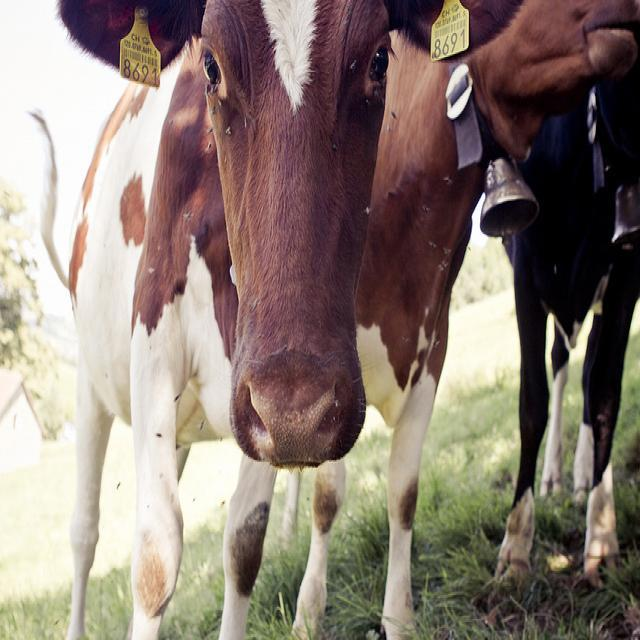cow: (25, 0, 526, 630), (368, 0, 636, 544), (489, 51, 639, 598)
